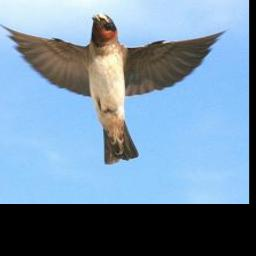Swallow: (0, 12, 227, 165)
